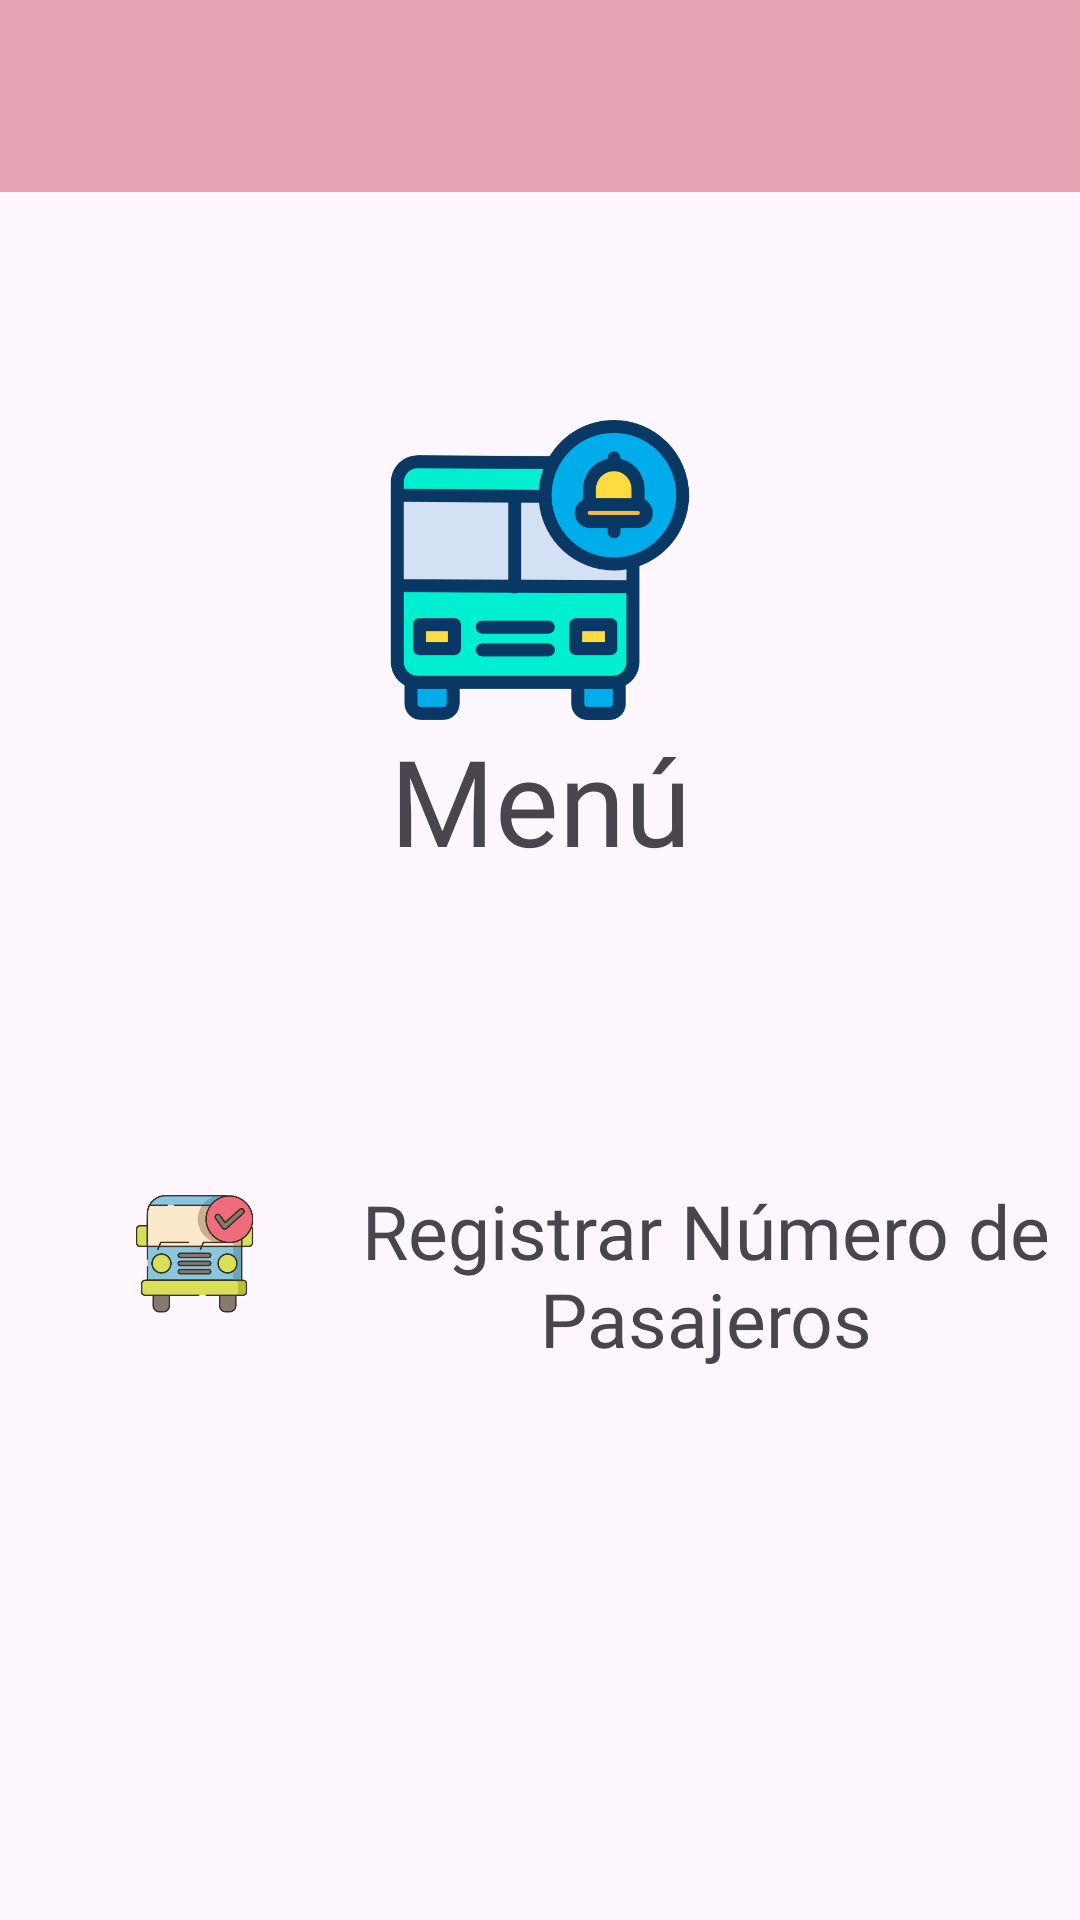

Named icons in this screenshot (1080 × 1920) and their bounding boxes, (x1, y1, x2, y2):
pasajerosabordo: (136, 1195, 253, 1313)
